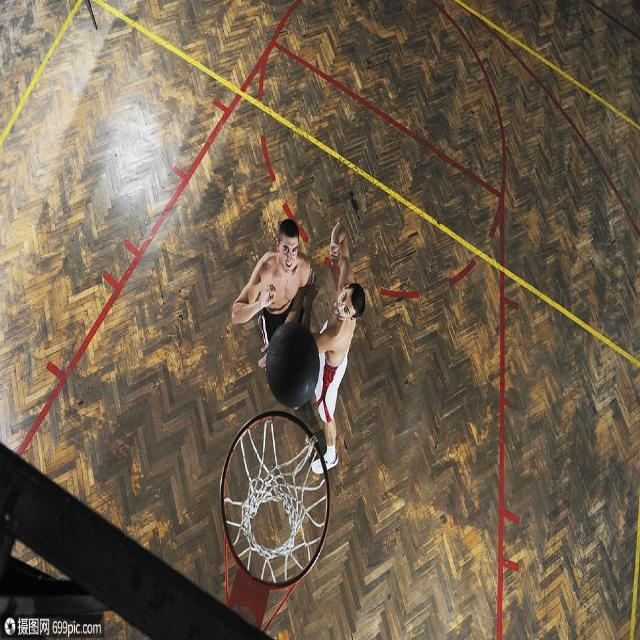rim: (268, 320, 318, 410)
